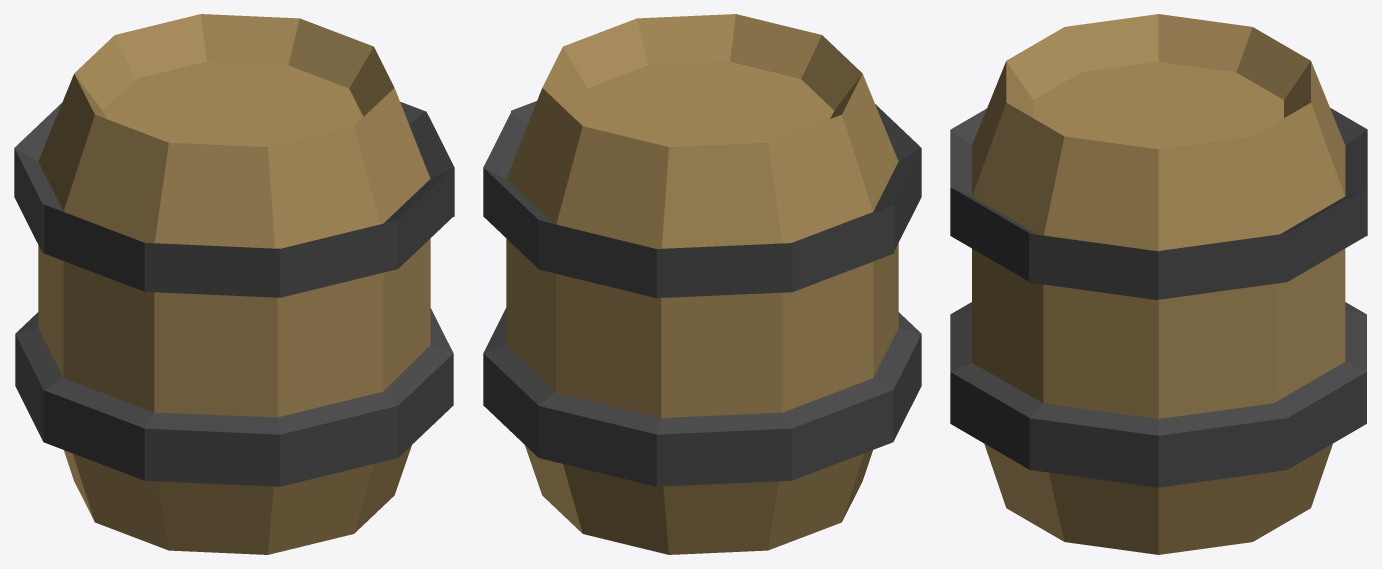
The model's file is barrel.fbx.
3 views of the same model, side by side, from view 1: azimuth 30°, elevation 25°; view 2: azimuth 150°, elevation 25°; view 3: azimuth 270°, elevation 25° (orthographic).
Parts seen in each view (by area): view 1: pCylinder558; view 2: pCylinder558; view 3: pCylinder558.
Boxes of the visible parts, left/top/right/bottom form: pCylinder558: left=14, top=14, right=454, bottom=554; pCylinder558: left=483, top=14, right=921, bottom=554; pCylinder558: left=950, top=14, right=1367, bottom=554.
Bounding box in the file's own units: 0.0108 × 0.0109 × 0.0102.
